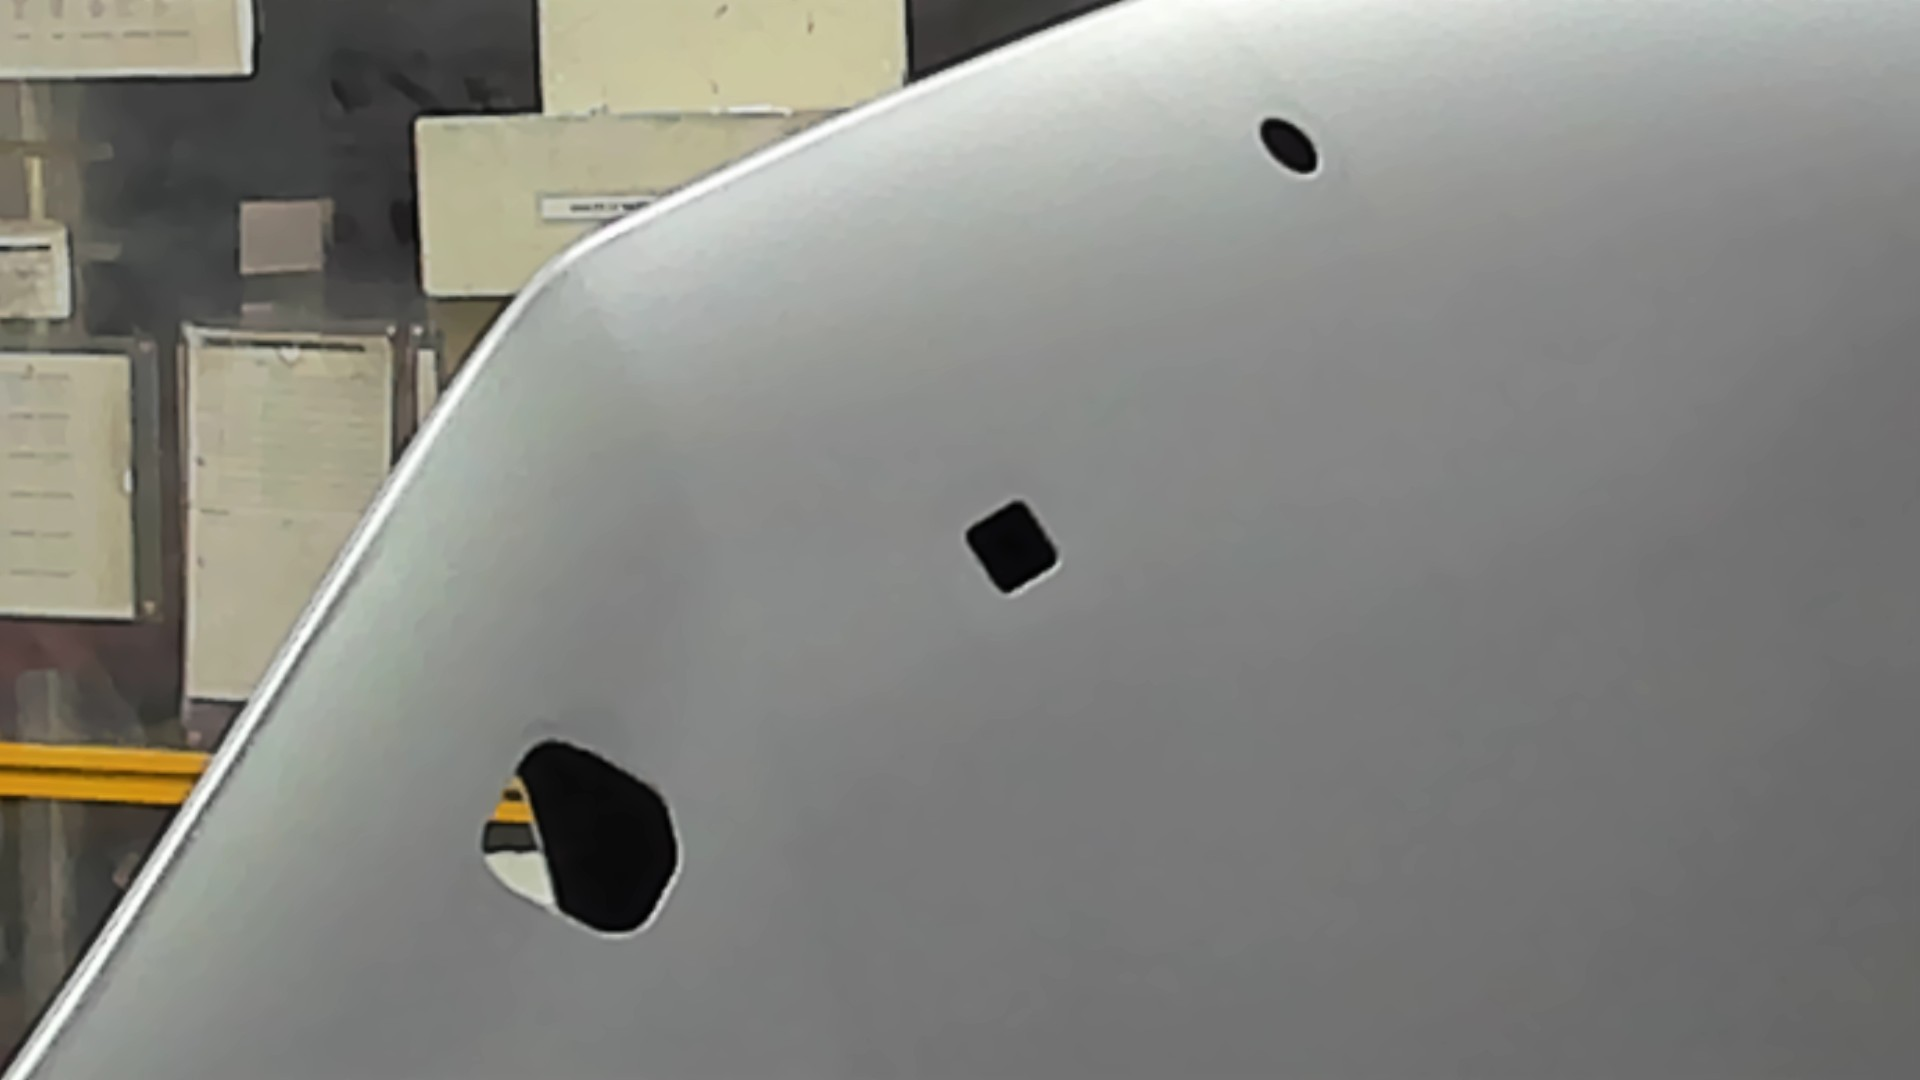chico: (1255, 111, 1327, 179)
grande: (480, 735, 687, 942)
mediano: (960, 495, 1064, 597)
